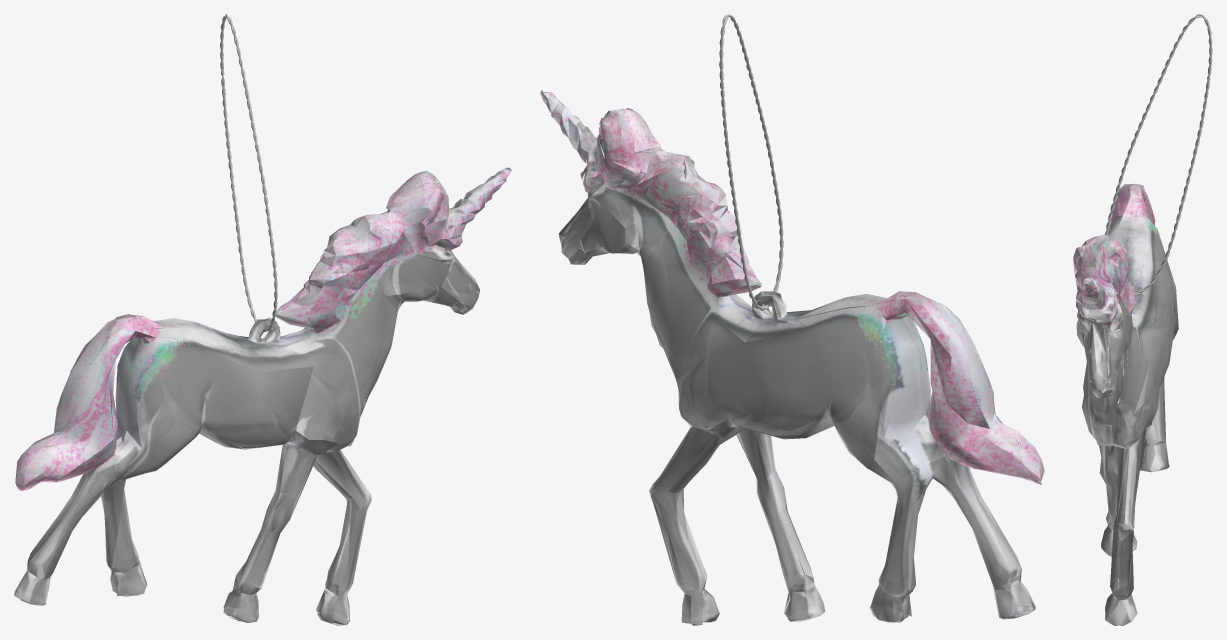
The model's file is unicorn.glb.
3 views of the same model, side by side, from view 1: azimuth 30°, elevation 25°; view 2: azimuth 150°, elevation 25°; view 3: azimuth 270°, elevation 25° (orthographic). The views are drawn at different scales.
Parts seen in each view (by area): view 1: Mesh10, GN Instance; view 2: Mesh10, GN Instance; view 3: Mesh10, GN Instance.
Boxes of the visible parts, x1,y1,x2,y2 form: Mesh10: (14, 167, 511, 625); GN Instance: (220, 14, 277, 331); Mesh10: (540, 90, 1044, 625); GN Instance: (719, 14, 783, 310); Mesh10: (1073, 183, 1178, 625); GN Instance: (1105, 14, 1212, 295).
Size of the model in its own units: 0.1248 by 0.1497 by 0.0329.
2 materials, 1 textured.
